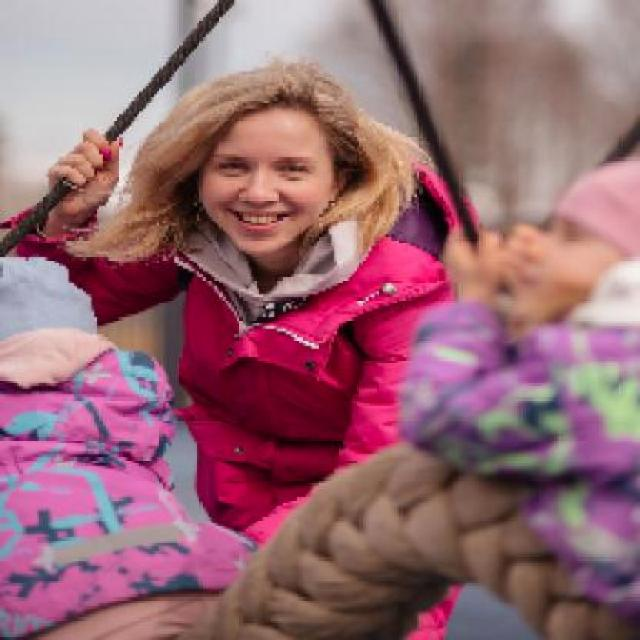child: (397, 154, 640, 623)
